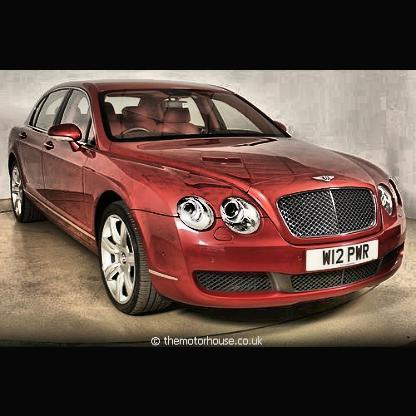Bentley Continental Flying Spur Sedan 2007: (7, 79, 409, 318)
